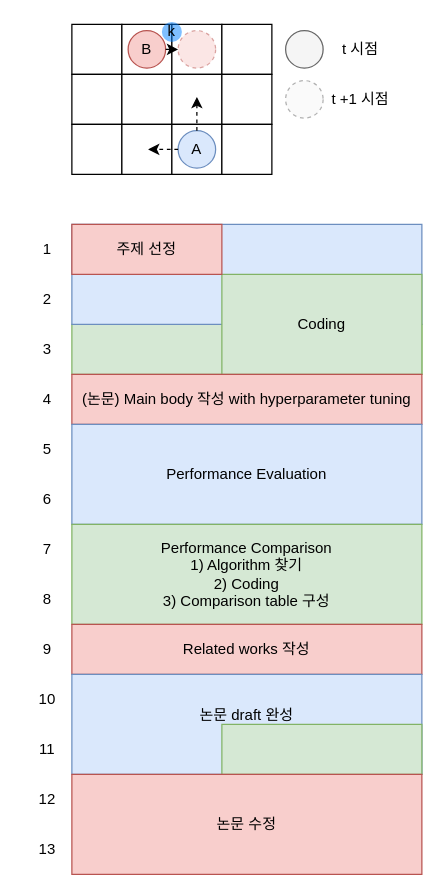
This 444x896 diagram has some shape labels left out. Here are the shapes that lost their labels. From the top down, the box of each, then its label:
(71, 223, 422, 324): Problem Formulation
(221, 723, 422, 774): 논문 Review 받기 Supplementary 작성
